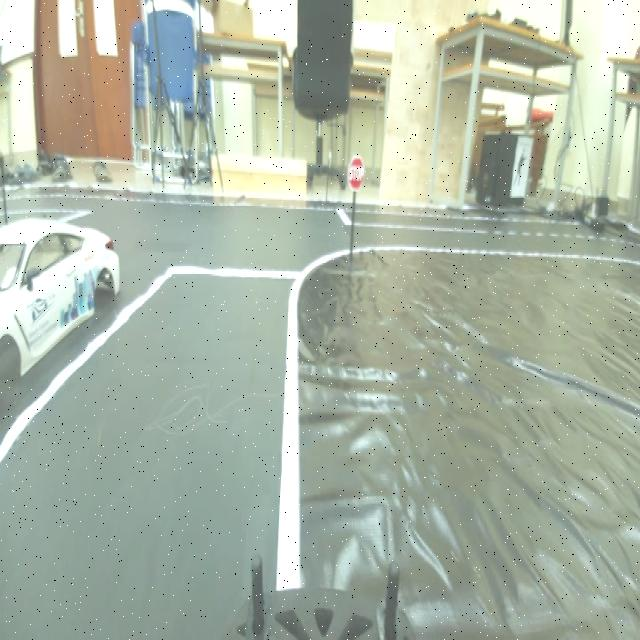stop: (340, 146, 374, 195)
